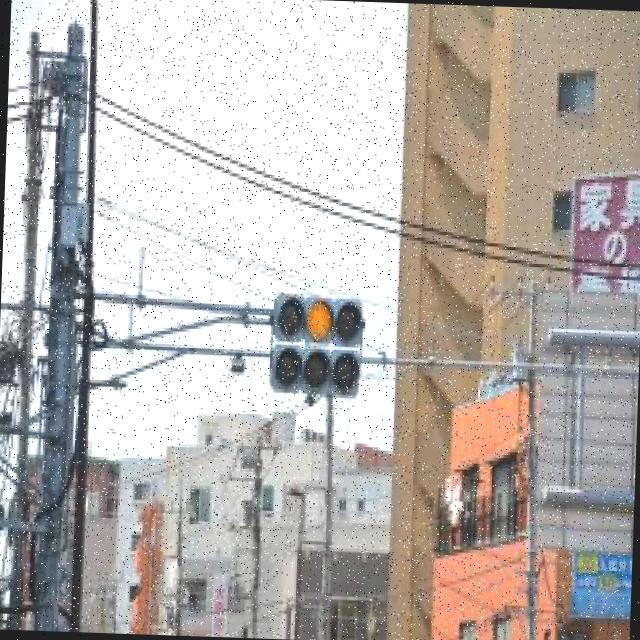yellow_light: (298, 293, 336, 341)
